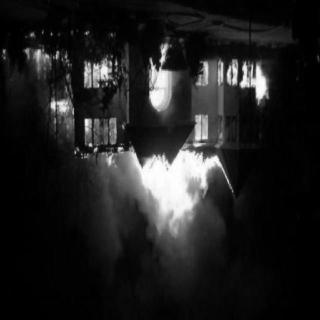Fire: (22, 27, 120, 173), (124, 152, 224, 226), (217, 58, 271, 105), (192, 108, 210, 144), (193, 58, 211, 92)
